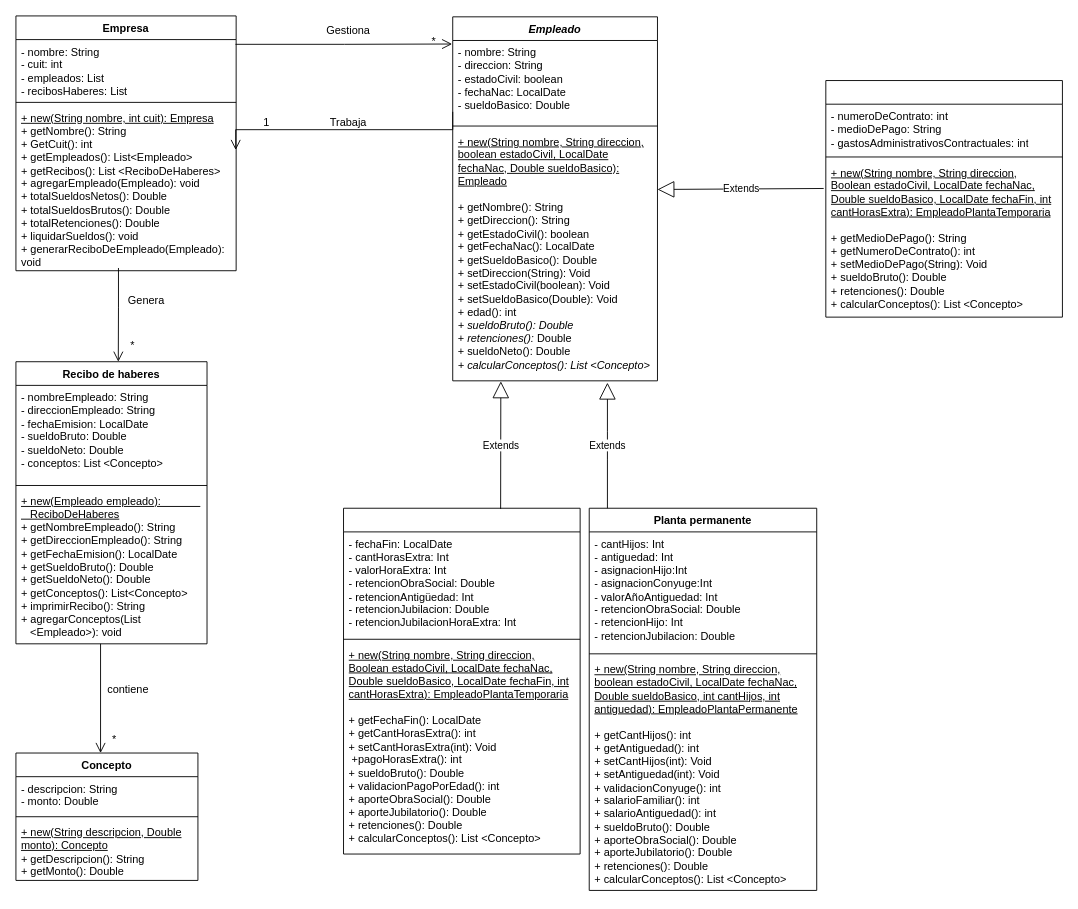
Image size: 1078x909. Some labels were removed from this diagram. The box of each missing label's shape, as (x1, y1, x2, y2) in pixels:
Empleado contratado: (825, 80, 1062, 317)
Empleado temporario: (343, 507, 580, 854)
